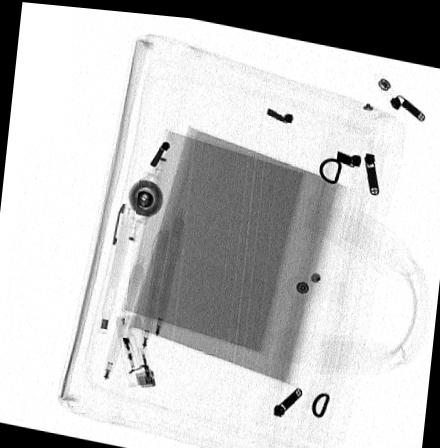Lighter: (115, 311, 155, 386)
